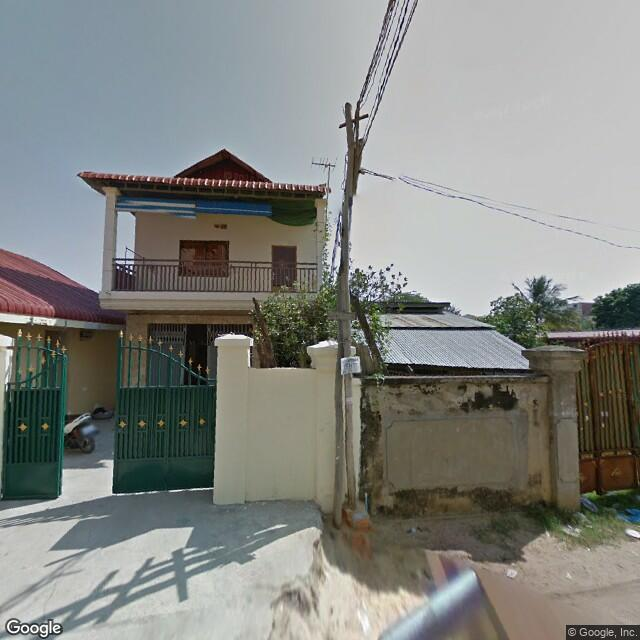litter: (497, 558, 522, 583), (616, 520, 640, 542)
